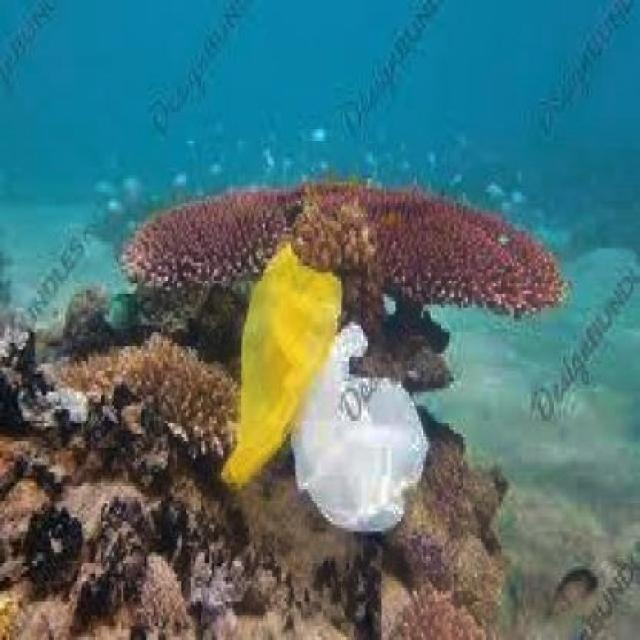pbag: (223, 238, 340, 510), (291, 318, 435, 536)
